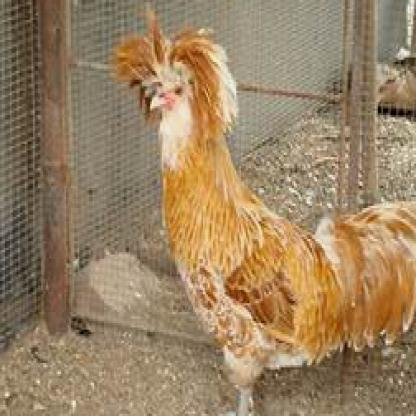chicken: (107, 0, 416, 414)
